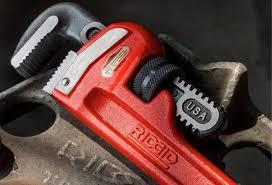wrench: (8, 0, 242, 184)
